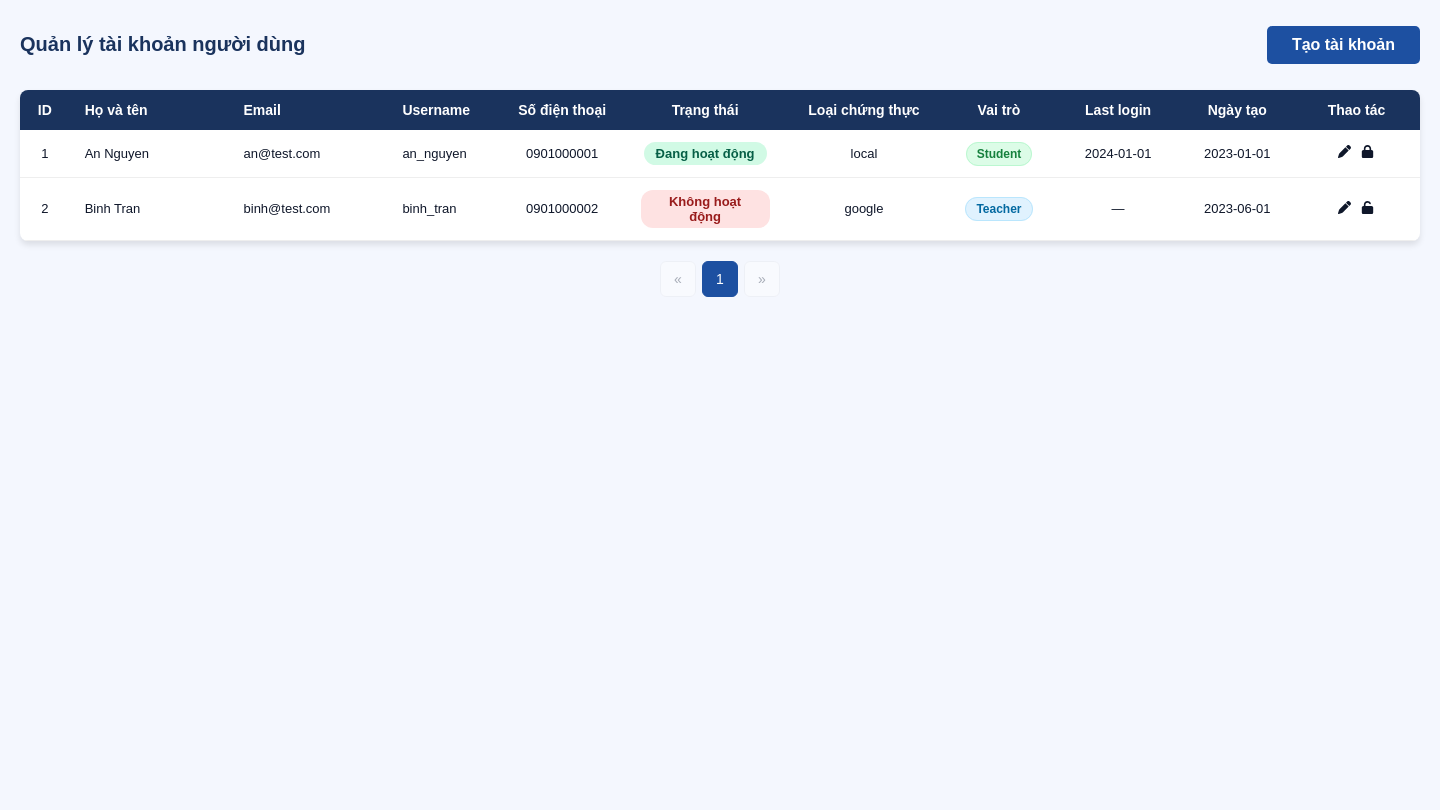
Test: 3. Edit user › ACC-006 mở modal edit với dữ liệu của user được chọn
Expected: the text "an_nguyen" is shown, 387,130 -> 499,177
Click the 1st icon with class "icon-edit": (1345, 154) 1338,146 -> 1351,161
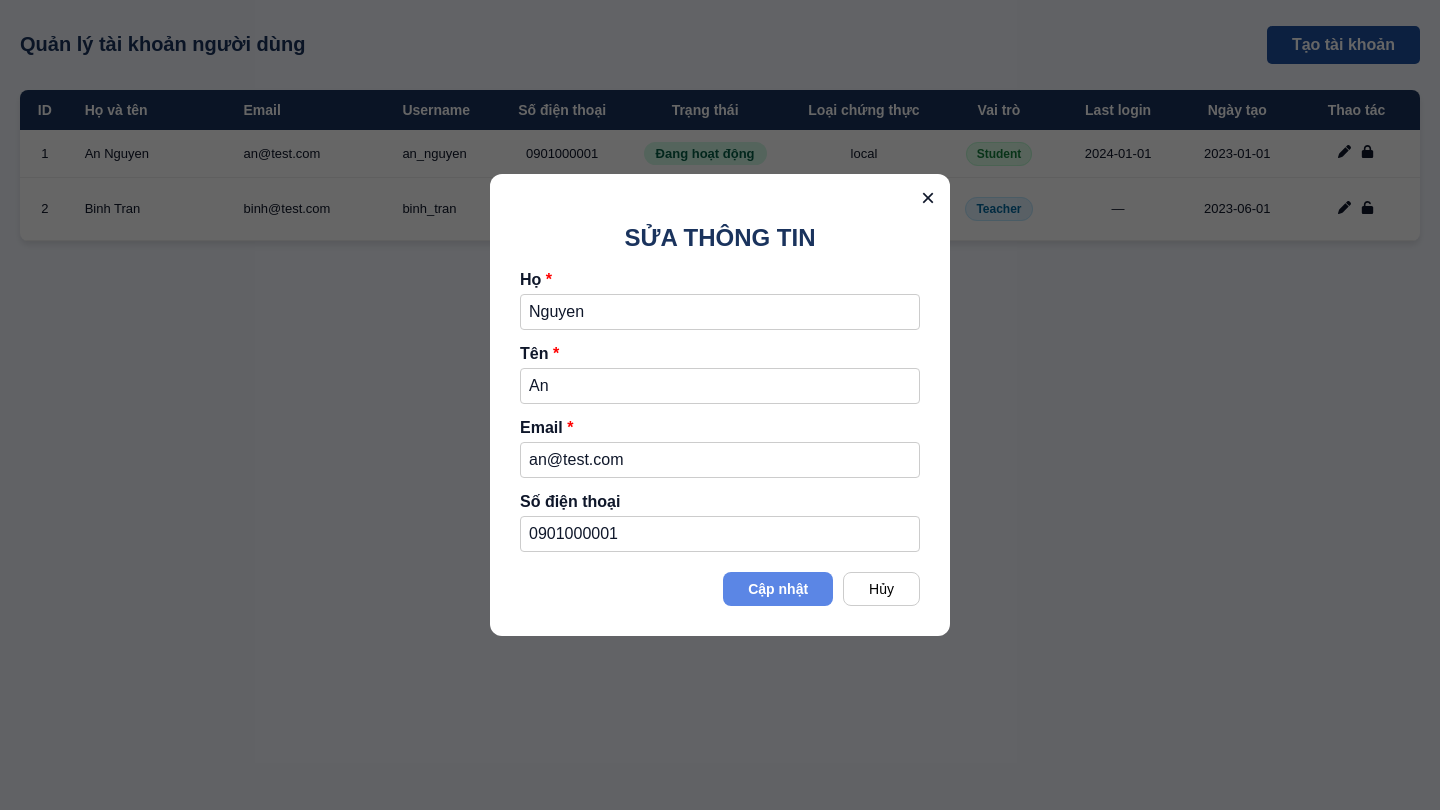
Now the heading "SỬA THÔNG TIN" is shown, box 624,224 -> 816,250
Now the 3rd field showing "an@test.com" is shown, box 520,442 -> 920,478
